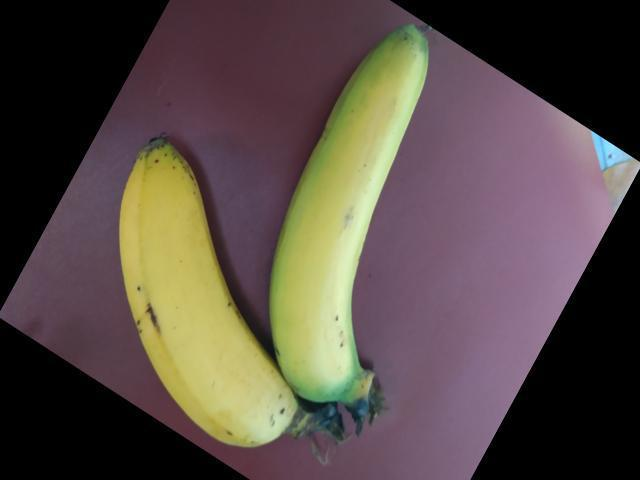freshripe: (271, 15, 452, 454), (114, 134, 280, 459)
